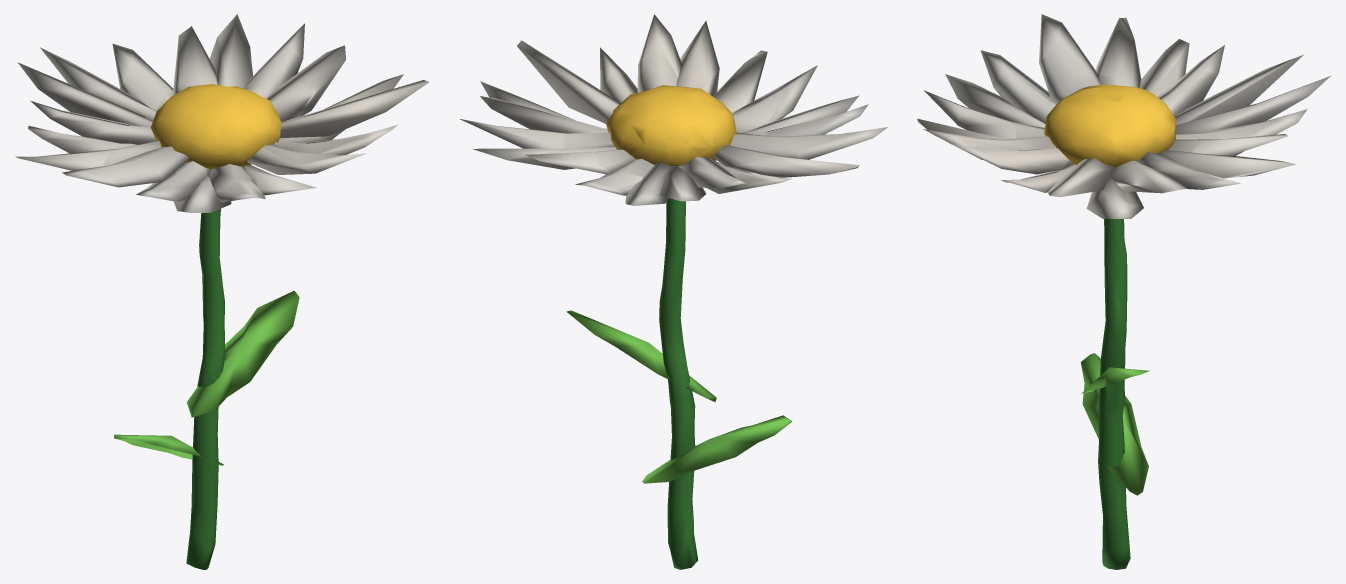
The model's file is glade_flower_daisy_lod2.glb.
3 renders of one model, left to right at view 1: azimuth 30°, elevation 25°; view 2: azimuth 150°, elevation 25°; view 3: azimuth 270°, elevation 25°, orthographic. The views are drawn at different scales.
Parts seen in each view (by area): view 1: glade_flower_daisy.001; view 2: glade_flower_daisy.001; view 3: glade_flower_daisy.001.
Part boxes in pixels (bbox=[...]): glade_flower_daisy.001: bbox=[15, 14, 429, 569]; glade_flower_daisy.001: bbox=[460, 14, 887, 569]; glade_flower_daisy.001: bbox=[917, 14, 1330, 569].
Bounding box in the file's own units: 17.14 × 19.97 × 15.63.
